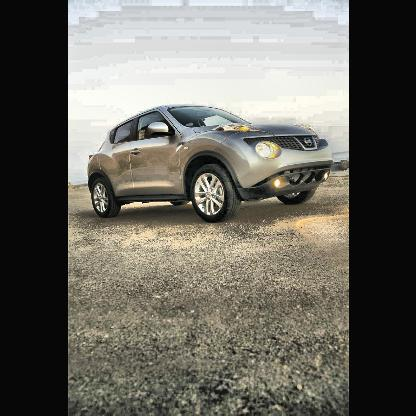Nissan Juke Hatchback 2012: (88, 105, 334, 225)
